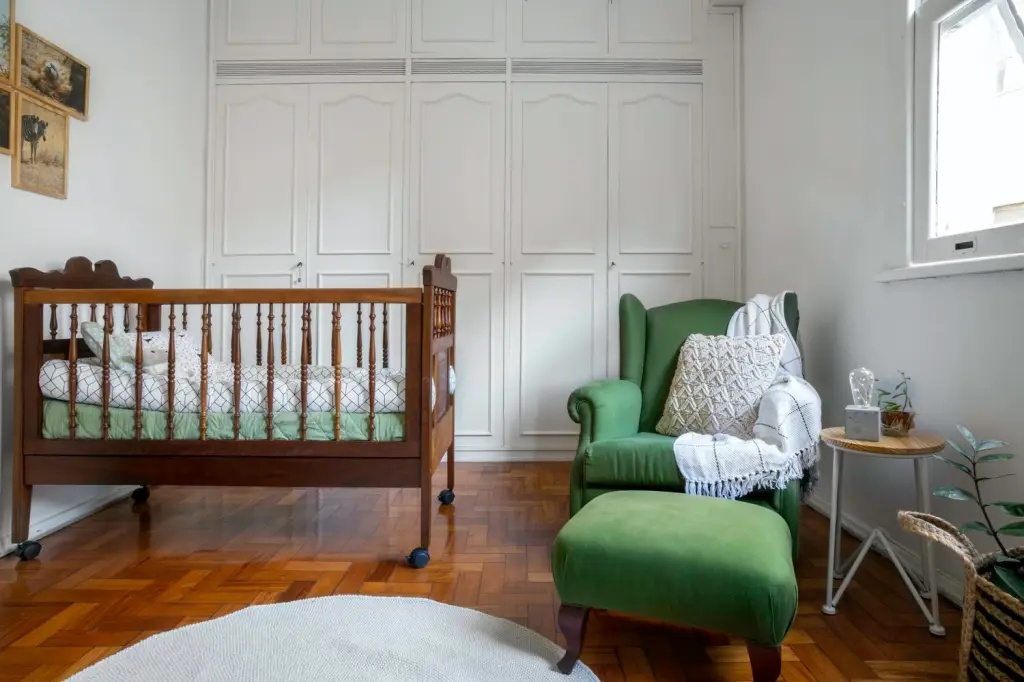crib: (11, 256, 455, 566)
